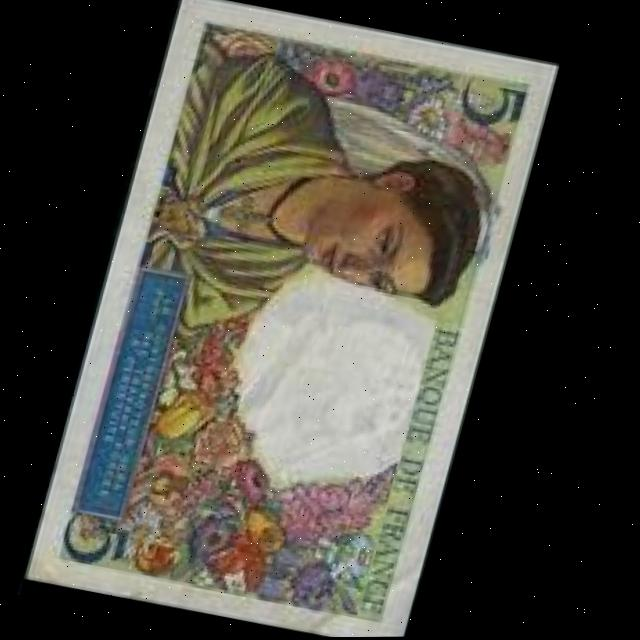banknote: (29, 0, 567, 640), (447, 72, 535, 139), (66, 511, 147, 574)
